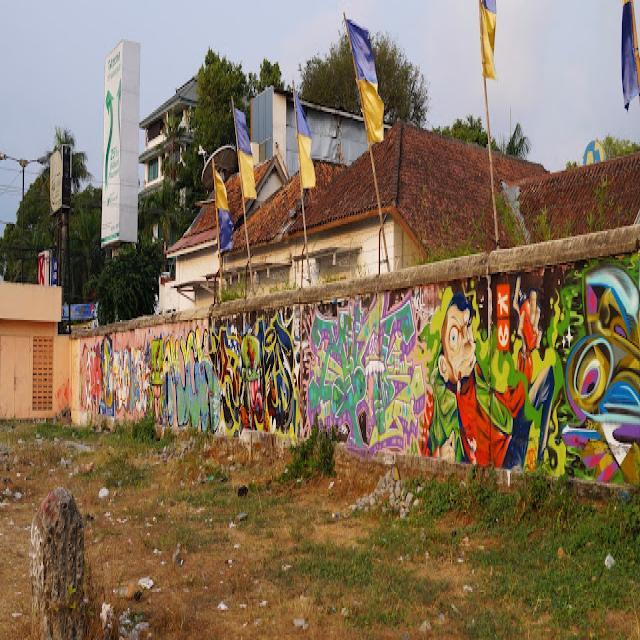-: (419, 261, 640, 476), (306, 302, 422, 450), (218, 322, 300, 432), (150, 330, 213, 430), (78, 333, 142, 418)
